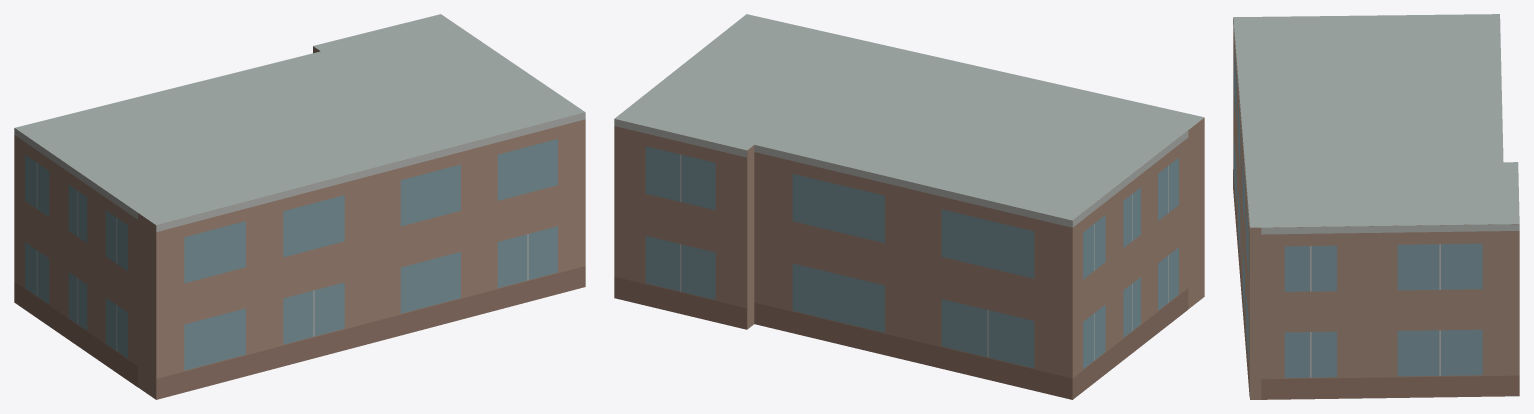
File: survey-upis-32870517.glb
3 renders of one model, left to right at view 1: azimuth 30°, elevation 25°; view 2: azimuth 150°, elevation 25°; view 3: azimuth 270°, elevation 25°, orthographic. The views are drawn at different scales.
Visible parts, largest first — view 1: survey-upis-32870517.tmp; view 2: survey-upis-32870517.tmp; view 3: survey-upis-32870517.tmp.
Part boxes in pixels (x1,y1,x2,y2): survey-upis-32870517.tmp: [14, 14, 585, 399]; survey-upis-32870517.tmp: [614, 14, 1204, 399]; survey-upis-32870517.tmp: [1233, 14, 1519, 399].
Size of the model in its own units: 16.25 by 6.1 by 9.21.
